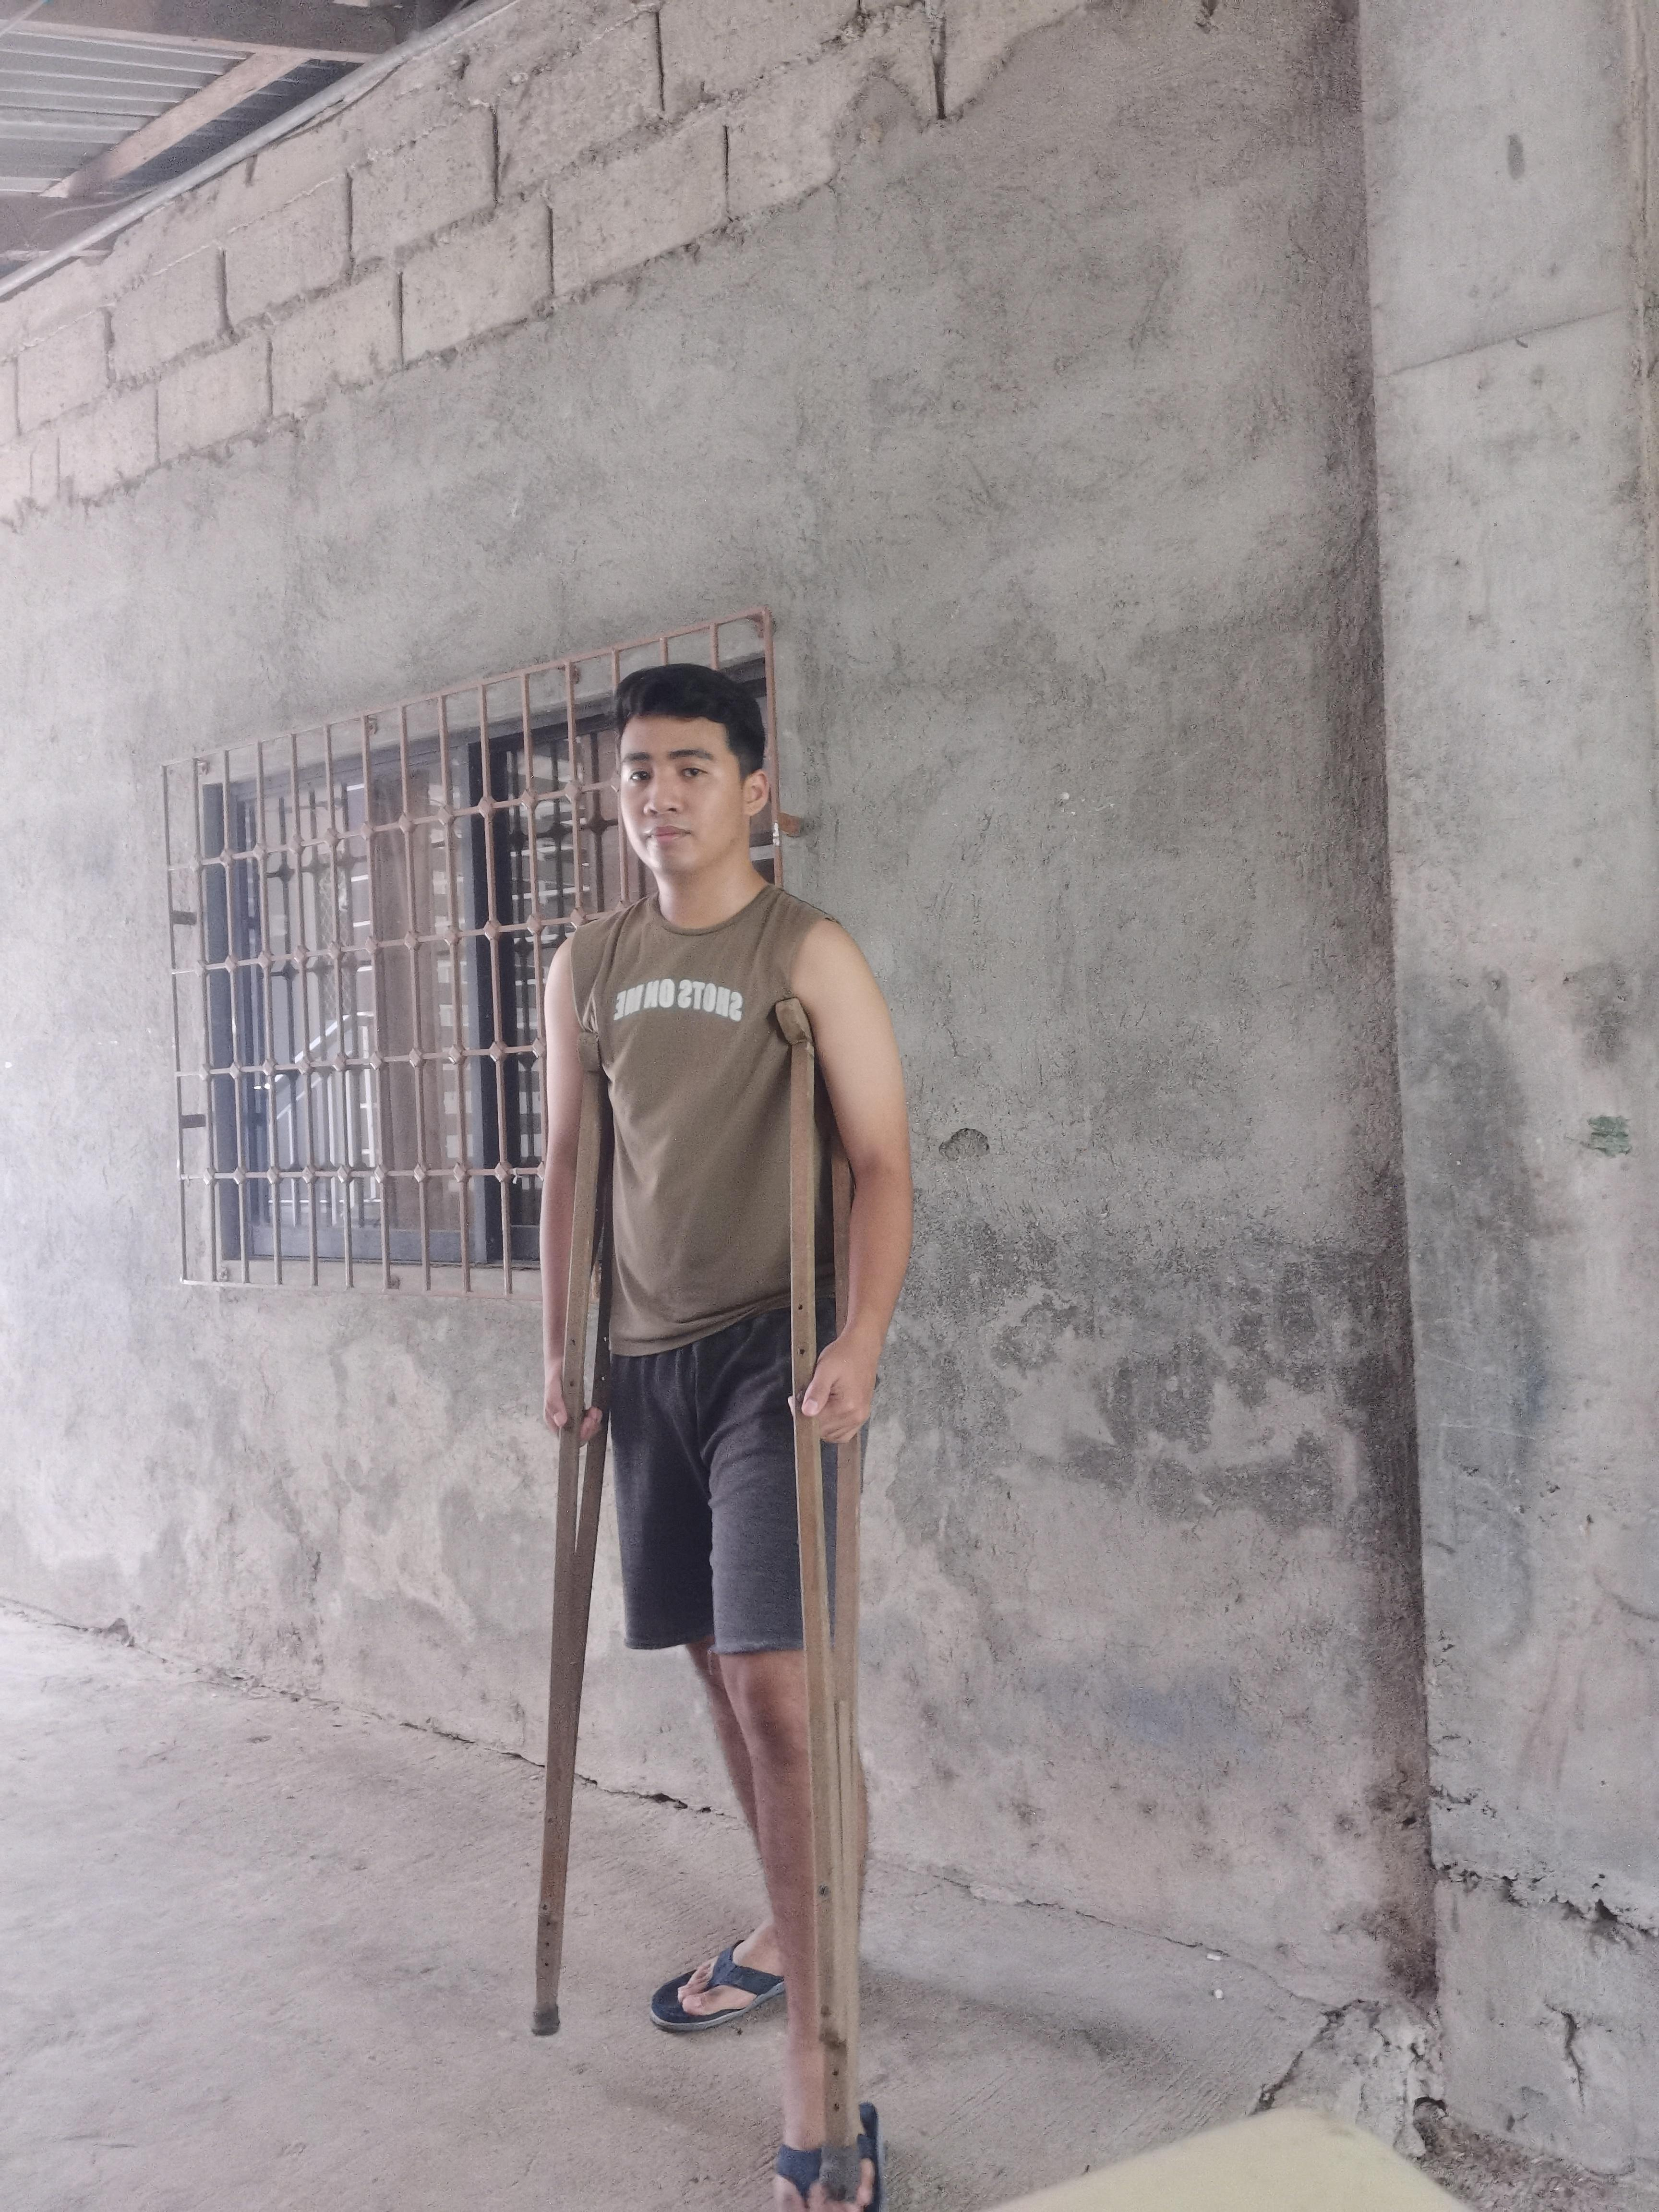crutches: (514, 644, 929, 2212)
